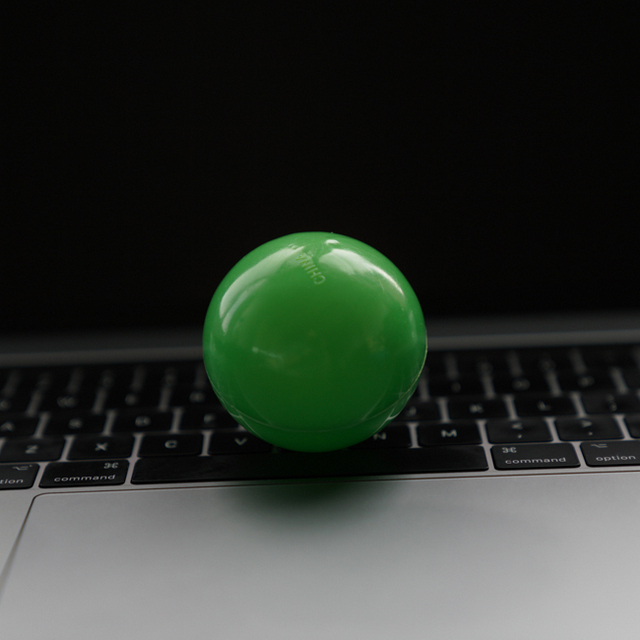Ball: (202, 231, 428, 452)
